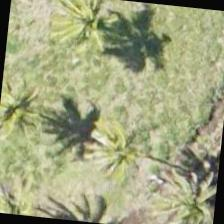Kelapa_Sawit: (0, 59, 52, 154), (157, 165, 219, 223)
